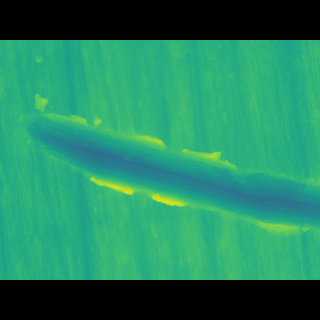Loch: (15, 116, 320, 218)
